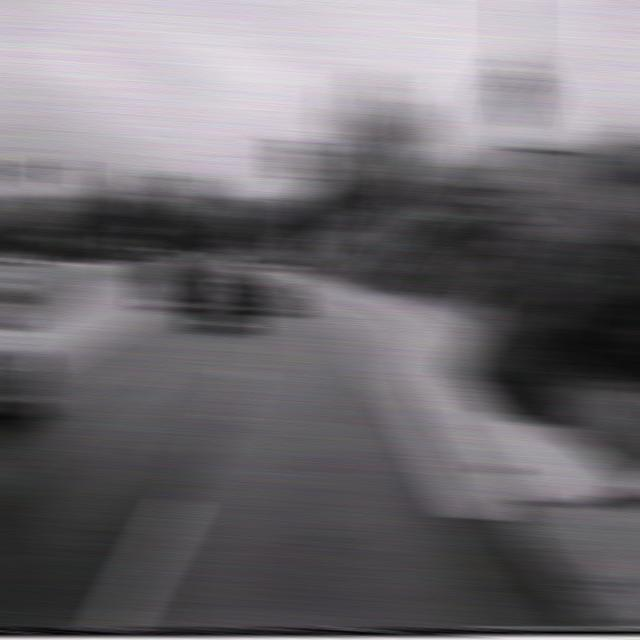pedestrianCrossing: (479, 40, 555, 148)
